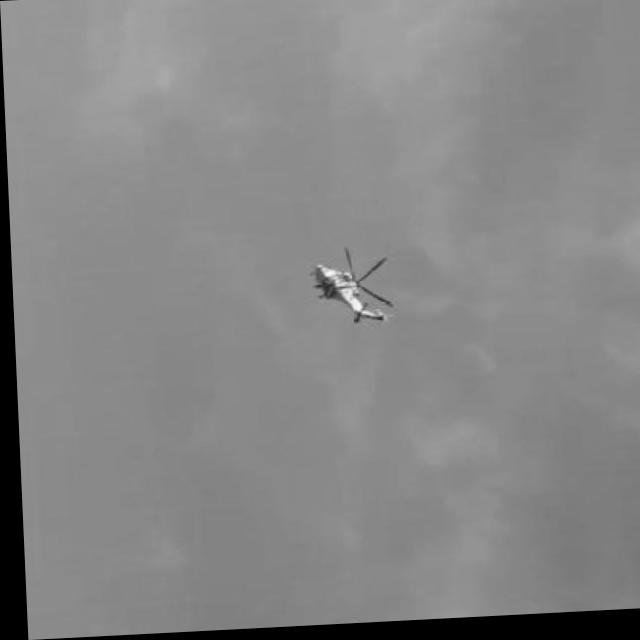helikopter: (299, 241, 397, 335)
